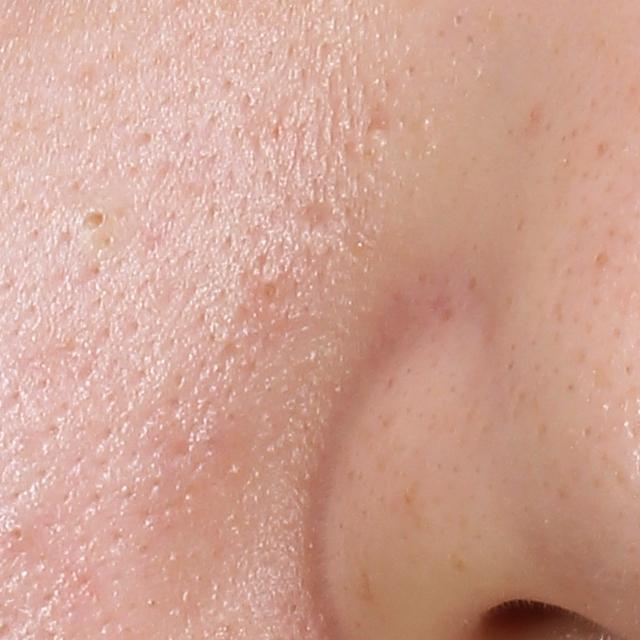atrophic_scar: (292, 194, 341, 236)
comedo: (70, 200, 122, 245), (3, 520, 32, 548), (257, 276, 282, 302)
melasma: (465, 271, 480, 291)
